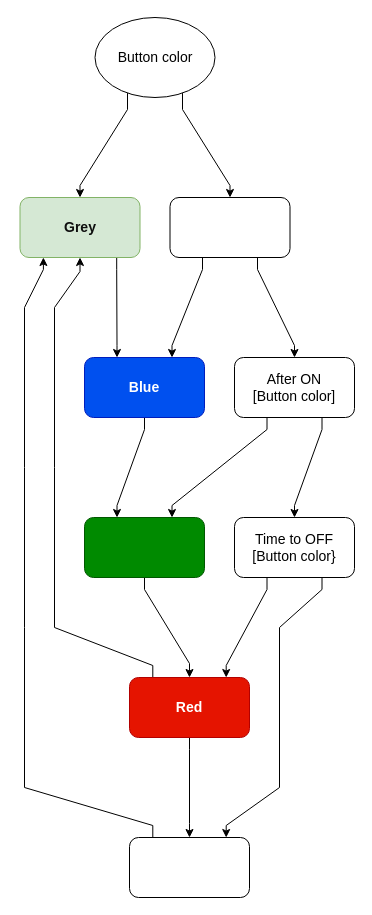
This 372x915 diagram has some shape labels left out. Here are the shapes that lost their labels. From the top down, the centre of each, then its label:
the point at 229,227: Time to ON [Button color]
the point at 144,547: Green
the point at 189,867: After OFF [Button color]
